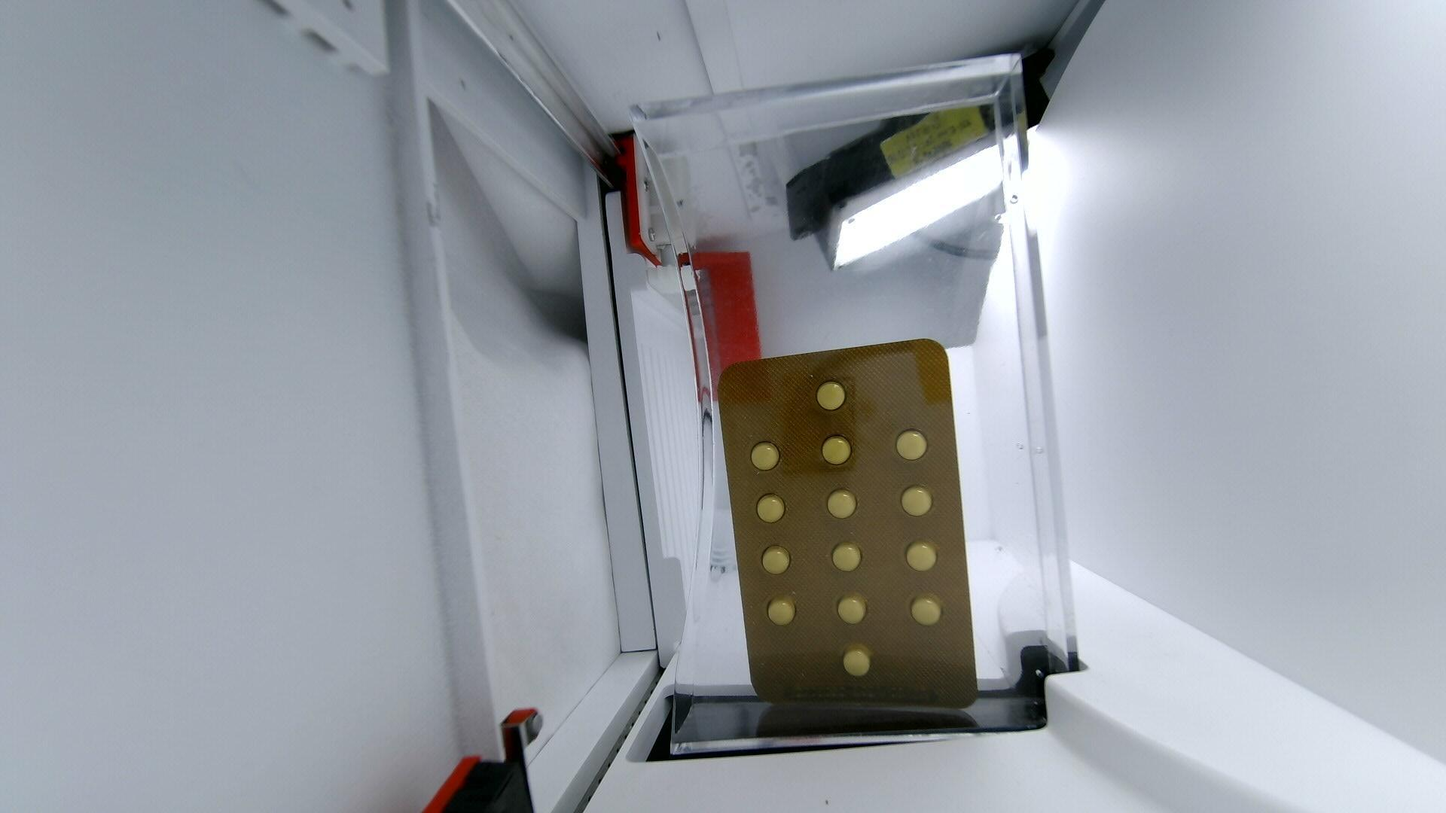Light Front: (718, 339, 978, 708)
Pill Front: (900, 486, 935, 519), (813, 379, 847, 410), (896, 430, 927, 461), (906, 540, 937, 571), (837, 594, 866, 624), (761, 545, 791, 574), (821, 435, 850, 464), (832, 542, 861, 571), (911, 596, 940, 625), (750, 441, 779, 470), (826, 489, 856, 516), (756, 495, 784, 522), (767, 598, 795, 625), (846, 650, 870, 674)
